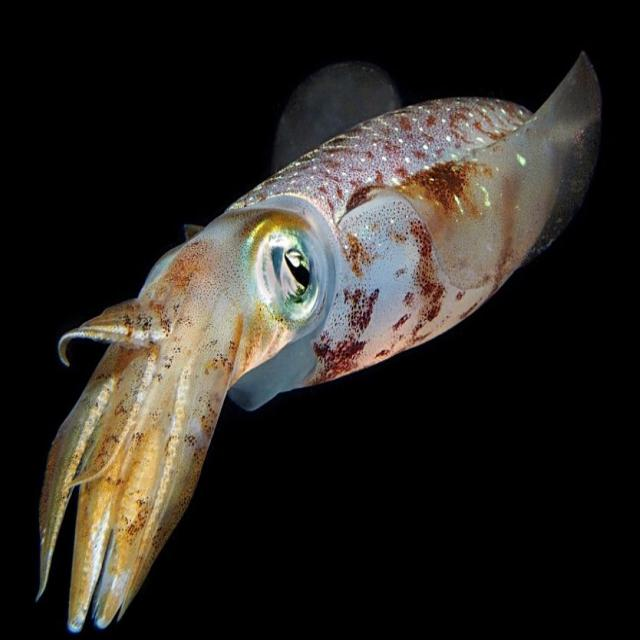SQUID: (29, 32, 614, 640)
